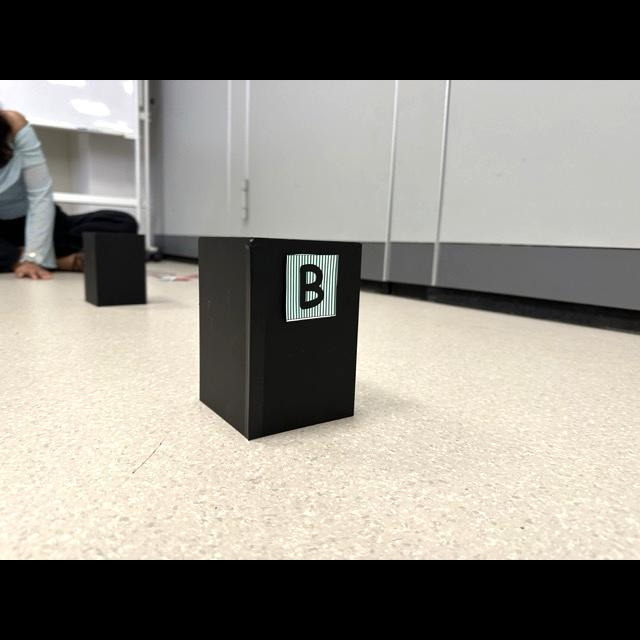B: (300, 264, 323, 309)
